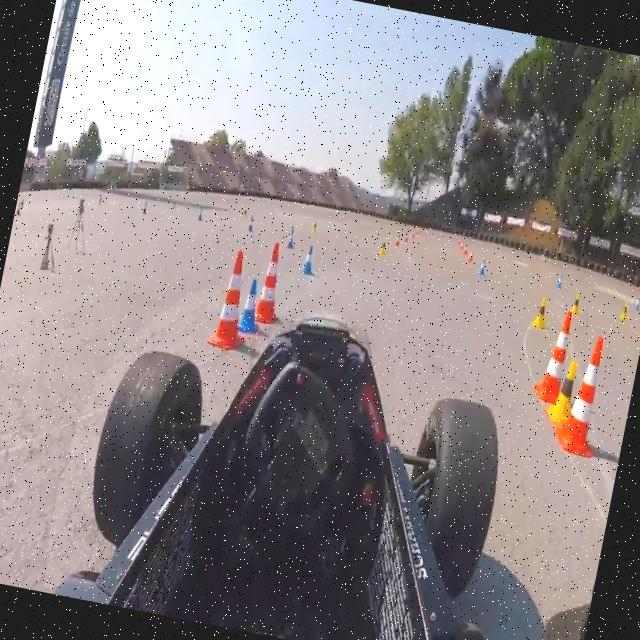blue_cone: (239, 276, 265, 335), (300, 248, 318, 279), (286, 228, 298, 251), (477, 256, 488, 279), (245, 213, 257, 234), (554, 274, 564, 294), (197, 205, 206, 222), (634, 297, 640, 314)
large_orange_cone: (558, 332, 614, 456), (206, 250, 260, 360), (533, 308, 579, 404), (252, 244, 292, 324)
orange_cone: (467, 250, 475, 264), (403, 231, 410, 243), (395, 234, 401, 246), (464, 245, 469, 256)
yellow_cone: (544, 358, 579, 424), (530, 296, 552, 332), (568, 292, 582, 320), (618, 300, 630, 324), (377, 240, 390, 261), (310, 219, 320, 235), (242, 208, 248, 222)
